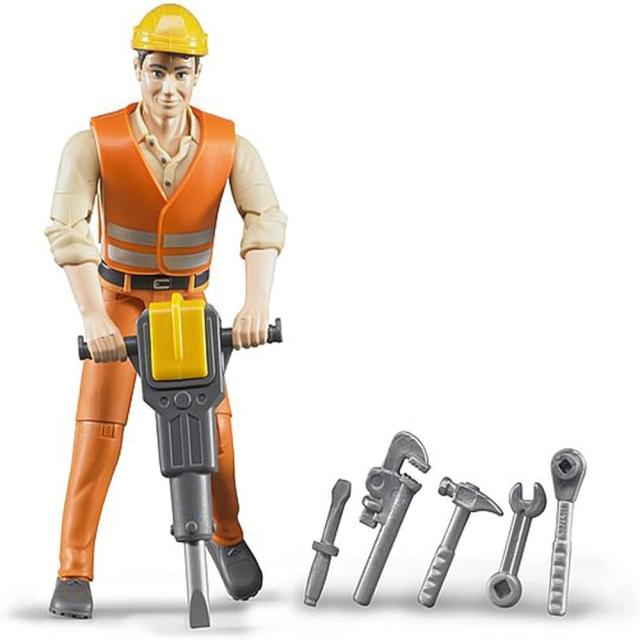safety_jacket: (84, 108, 237, 282)
